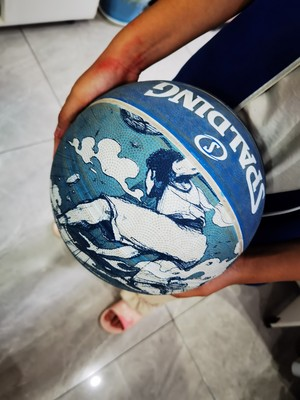ball: (49, 80, 267, 297)
